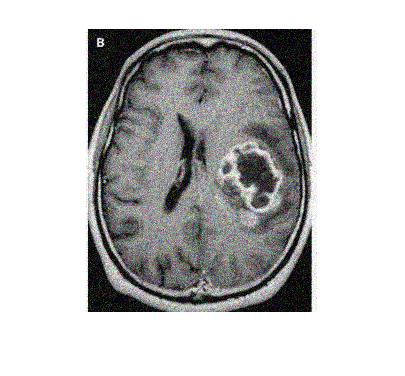Brain_Cancer: (215, 140, 285, 216)
